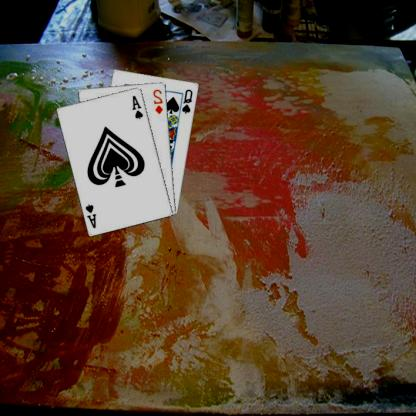2D: (152, 86, 166, 116)
AS: (132, 93, 146, 120), (85, 202, 99, 229)
QS: (182, 86, 196, 115)
